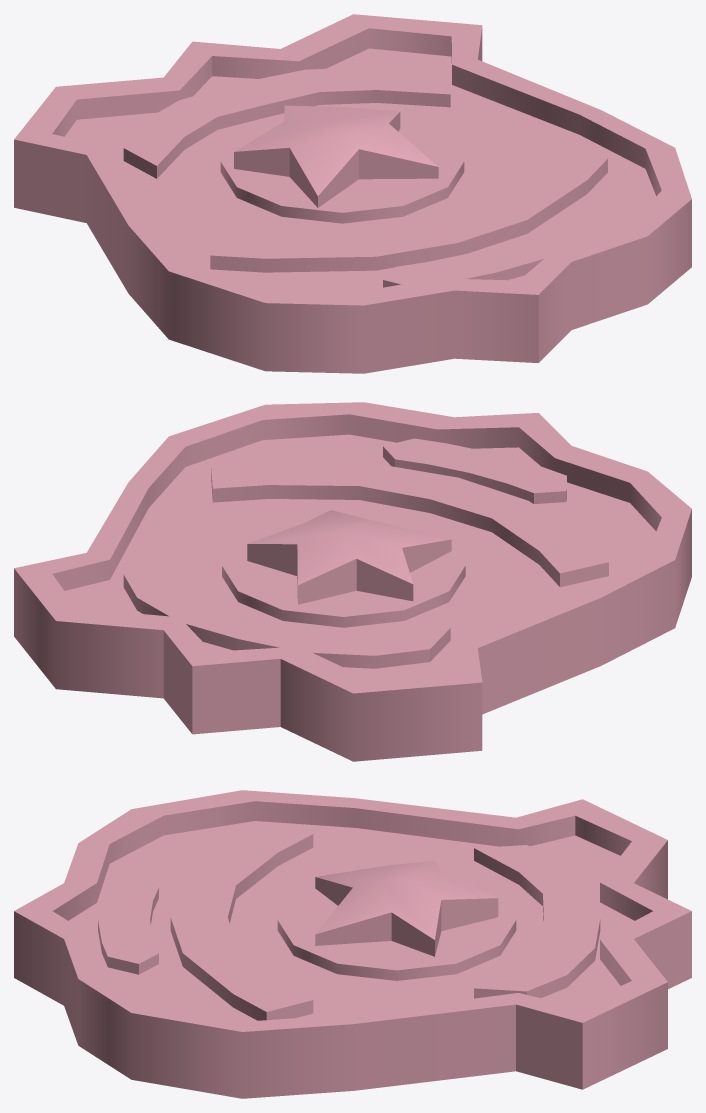
Rendered from PoliceBadge.fbx.
3 renders of one model, top to bottom at view 1: azimuth 30°, elevation 25°; view 2: azimuth 150°, elevation 25°; view 3: azimuth 270°, elevation 25°, orthographic. The views are drawn at different scales.
Visible parts, largest first — view 1: PoliceBadge; view 2: PoliceBadge; view 3: PoliceBadge.
Part boxes in pixels (x1=…): PoliceBadge: x1=14, y1=14, x2=691, y2=373; PoliceBadge: x1=14, y1=402, x2=691, y2=761; PoliceBadge: x1=14, y1=790, x2=691, y2=1098.
Size of the model in its own units: 13.16 by 2.4 by 15.58.
